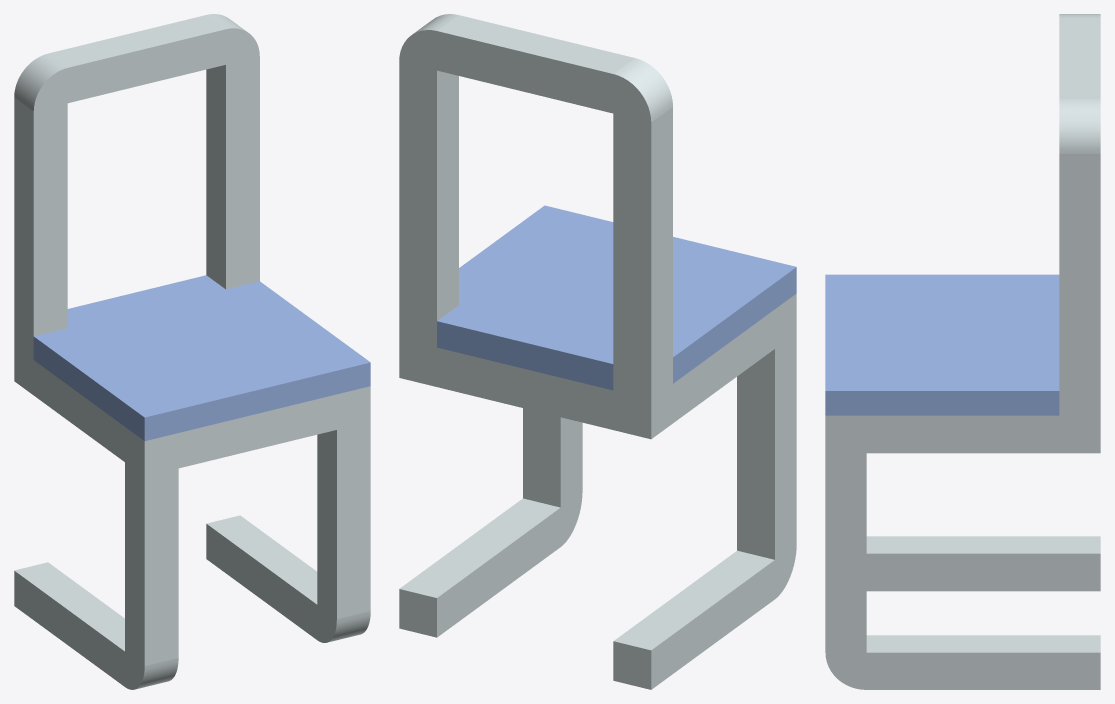
File: chairModernFrameCushion.glb
The picture shows the model from 3 angles, left to right: view 1: azimuth 30°, elevation 25°; view 2: azimuth 150°, elevation 25°; view 3: azimuth 270°, elevation 25°; orthographic projection. The views are drawn at different scales.
Visible parts, largest first — view 1: chairModernFrameCushion(Clone); view 2: chairModernFrameCushion(Clone); view 3: chairModernFrameCushion(Clone).
Boxes of the visible parts, bbox=[...] form: chairModernFrameCushion(Clone): bbox=[14, 14, 370, 689]; chairModernFrameCushion(Clone): bbox=[399, 14, 796, 689]; chairModernFrameCushion(Clone): bbox=[825, 14, 1100, 689].
Size of the model in its own units: 0.406 by 0.9338 by 0.406.
Materials: 2 (2 with a texture image).
